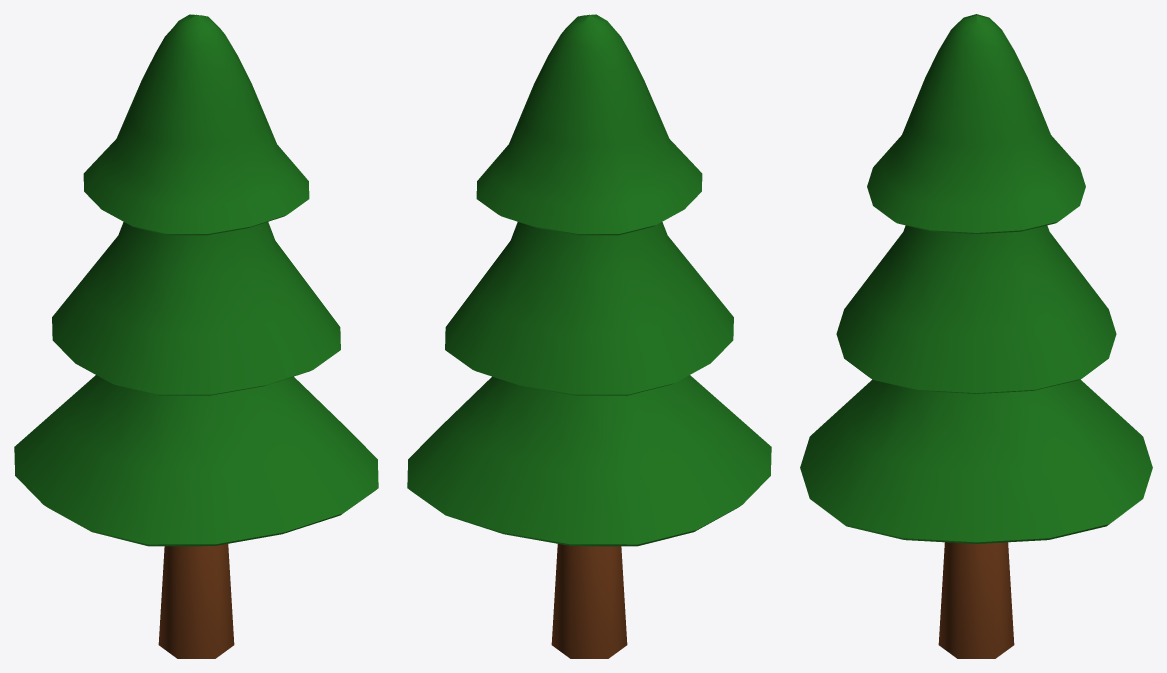
The model's file is Tree.fbx.
3 views of the same model, side by side, from view 1: azimuth 30°, elevation 25°; view 2: azimuth 150°, elevation 25°; view 3: azimuth 270°, elevation 25° (orthographic).
Visible parts, largest first — view 1: Cube.006, Cube.005, Cube.004, Cone; view 2: Cube.006, Cube.005, Cube.004, Cone; view 3: Cube.006, Cube.005, Cube.004, Cone.
Boxes of the visible parts, x1,y1,x2,y2 form: Cube.006: (14, 375, 378, 546); Cube.005: (52, 222, 340, 395); Cube.004: (83, 14, 309, 235); Cone: (158, 14, 234, 658); Cube.006: (407, 375, 771, 546); Cube.005: (445, 222, 733, 395); Cube.004: (476, 14, 702, 235); Cone: (551, 14, 627, 658); Cube.006: (800, 379, 1152, 543); Cube.005: (836, 225, 1116, 393); Cube.004: (867, 14, 1085, 233); Cone: (938, 14, 1014, 658).
Bounding box in the file's own units: 933 × 1841 × 933.
